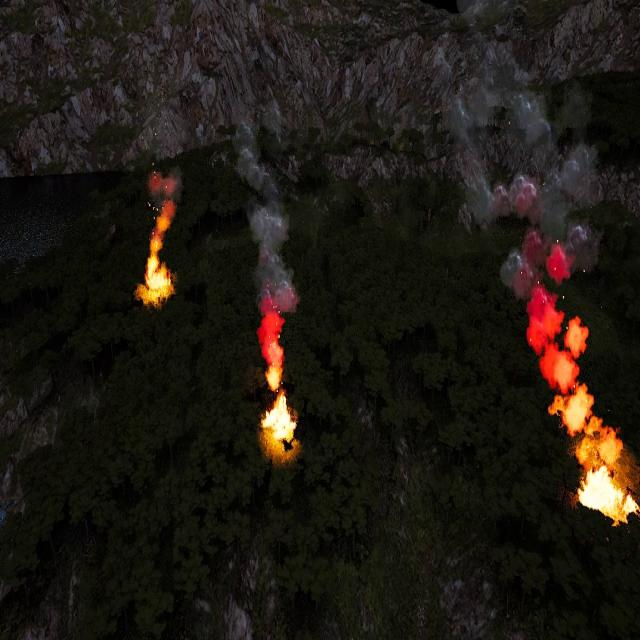fire: (579, 463, 640, 523), (262, 391, 298, 450), (138, 250, 172, 304)
smoke: (448, 77, 626, 461), (235, 103, 300, 393), (146, 156, 184, 248)
